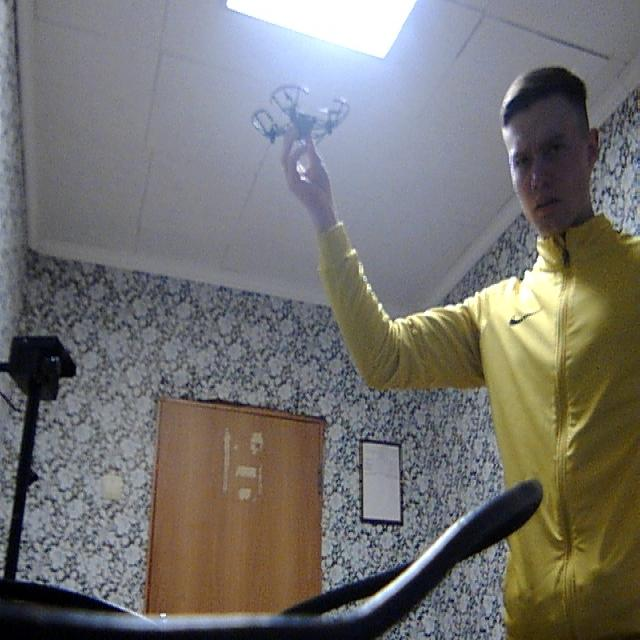drone: (248, 79, 347, 163)
